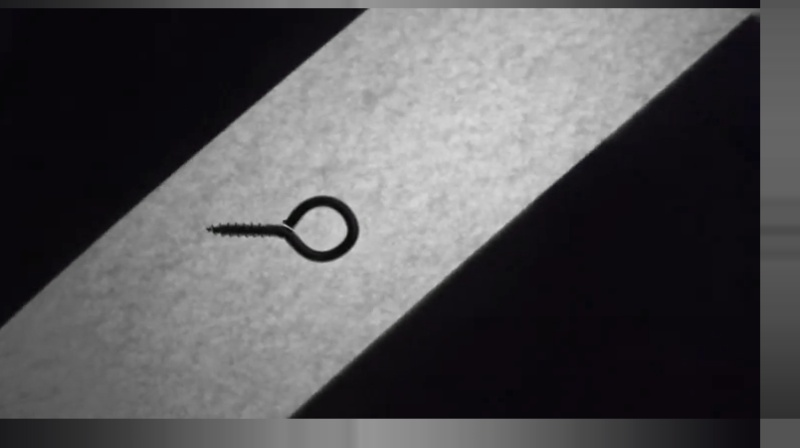O001: (201, 194, 364, 263)
